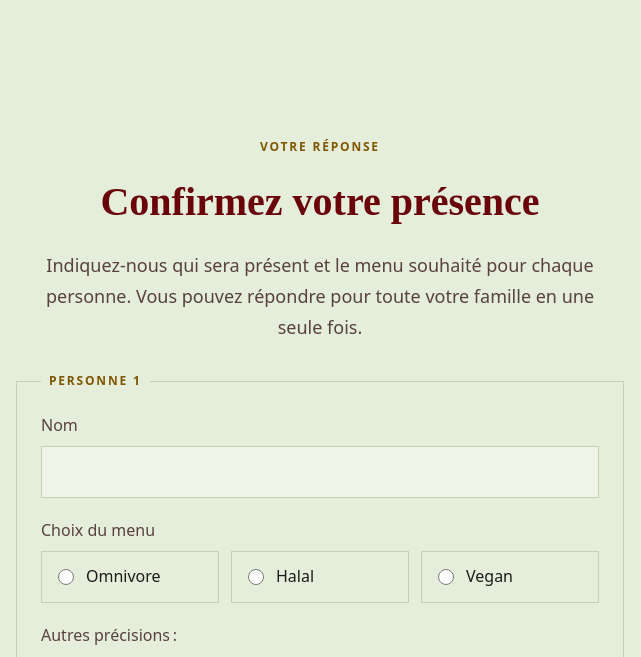
Scenario: RsvpPage › sends the answer of a single guest to the api
Type "Camille" into the field labelled "Nom" at (320, 472), box [41, 446, 599, 498]
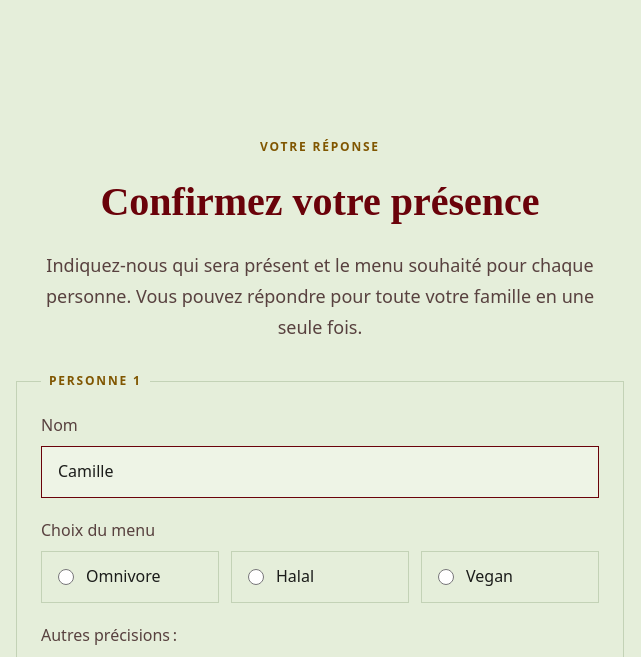
Click the radio button labelled "Vegan" at (446, 577), box [438, 569, 454, 585]
(page scrolled)
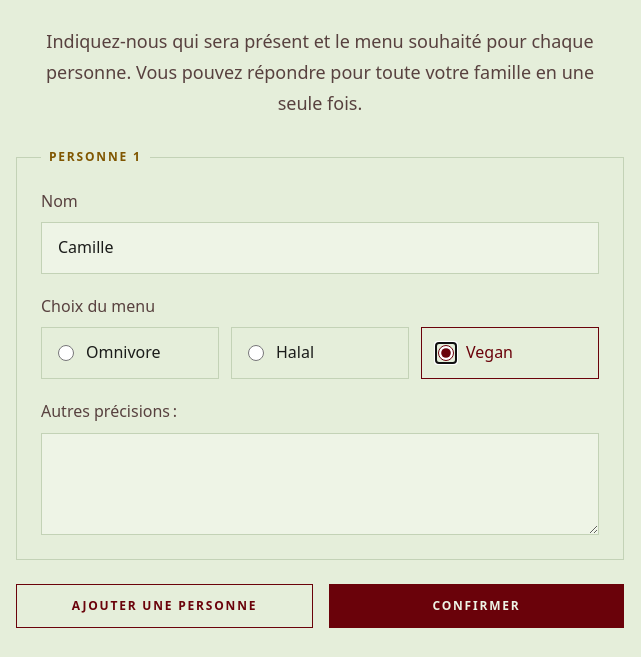
Type "Sans champignons" into the text box labelled "Autres précisions :" at (320, 484), box [41, 432, 599, 535]
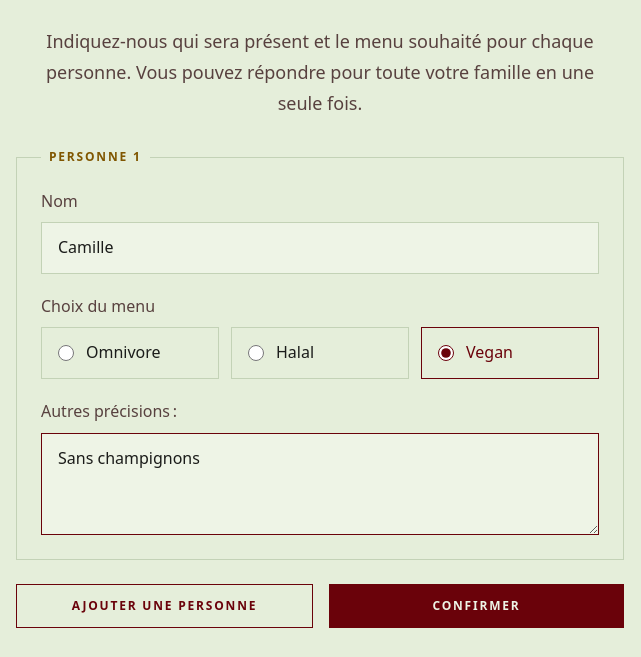
Click the button "Confirmer" at (476, 606), box [329, 584, 624, 628]
(page scrolled)
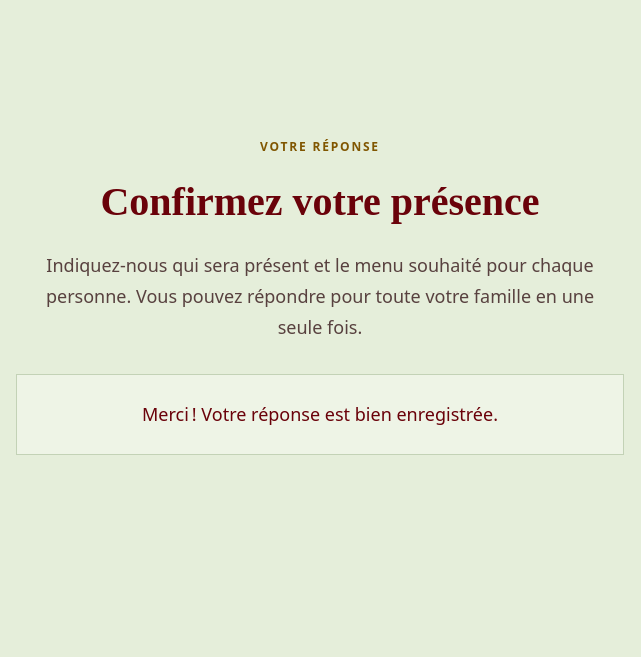
Now the message shows "Votre réponse est bien enregistrée.", box [142, 402, 498, 426]
